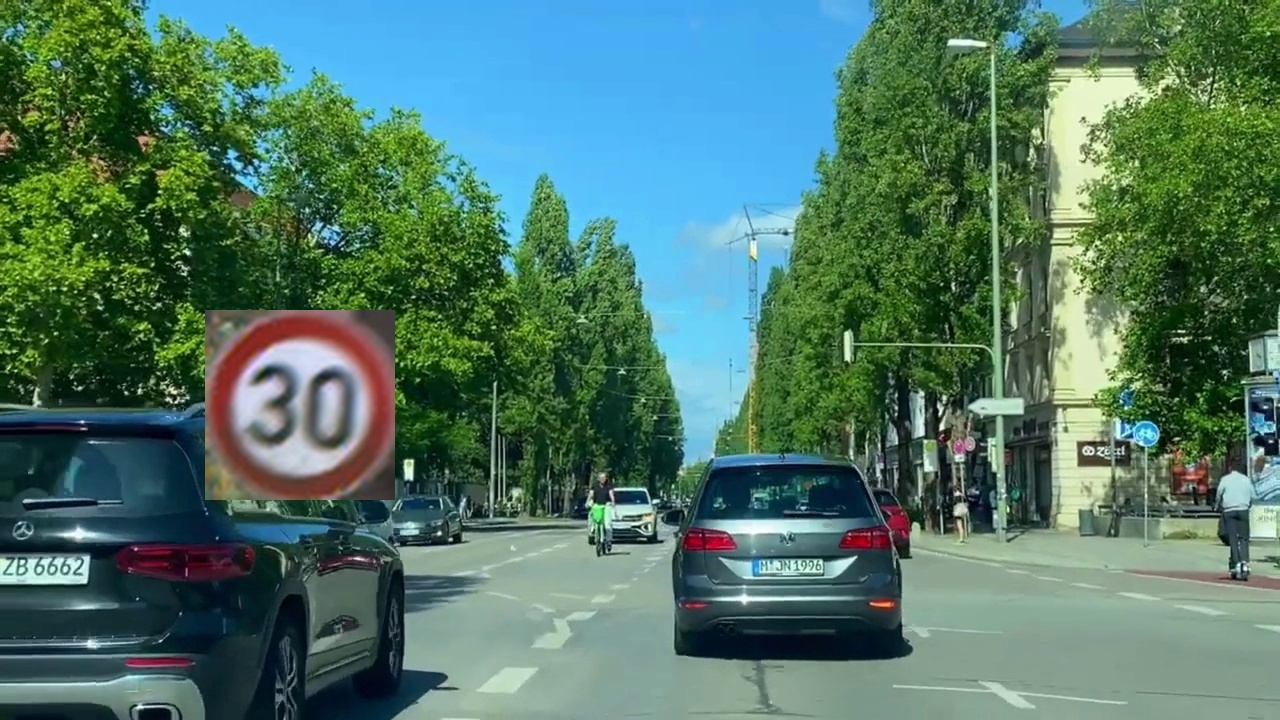Speed 30: (205, 310, 395, 500)
